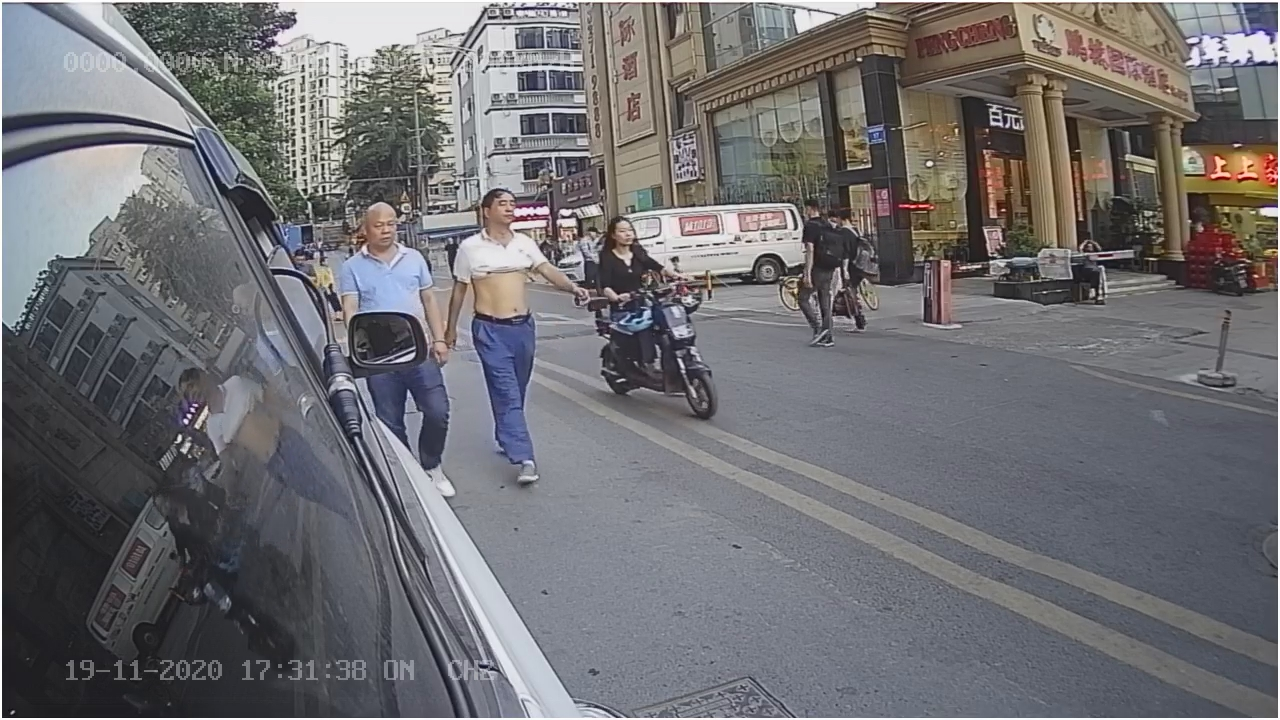person: (447, 188, 560, 488), (594, 222, 662, 281)
